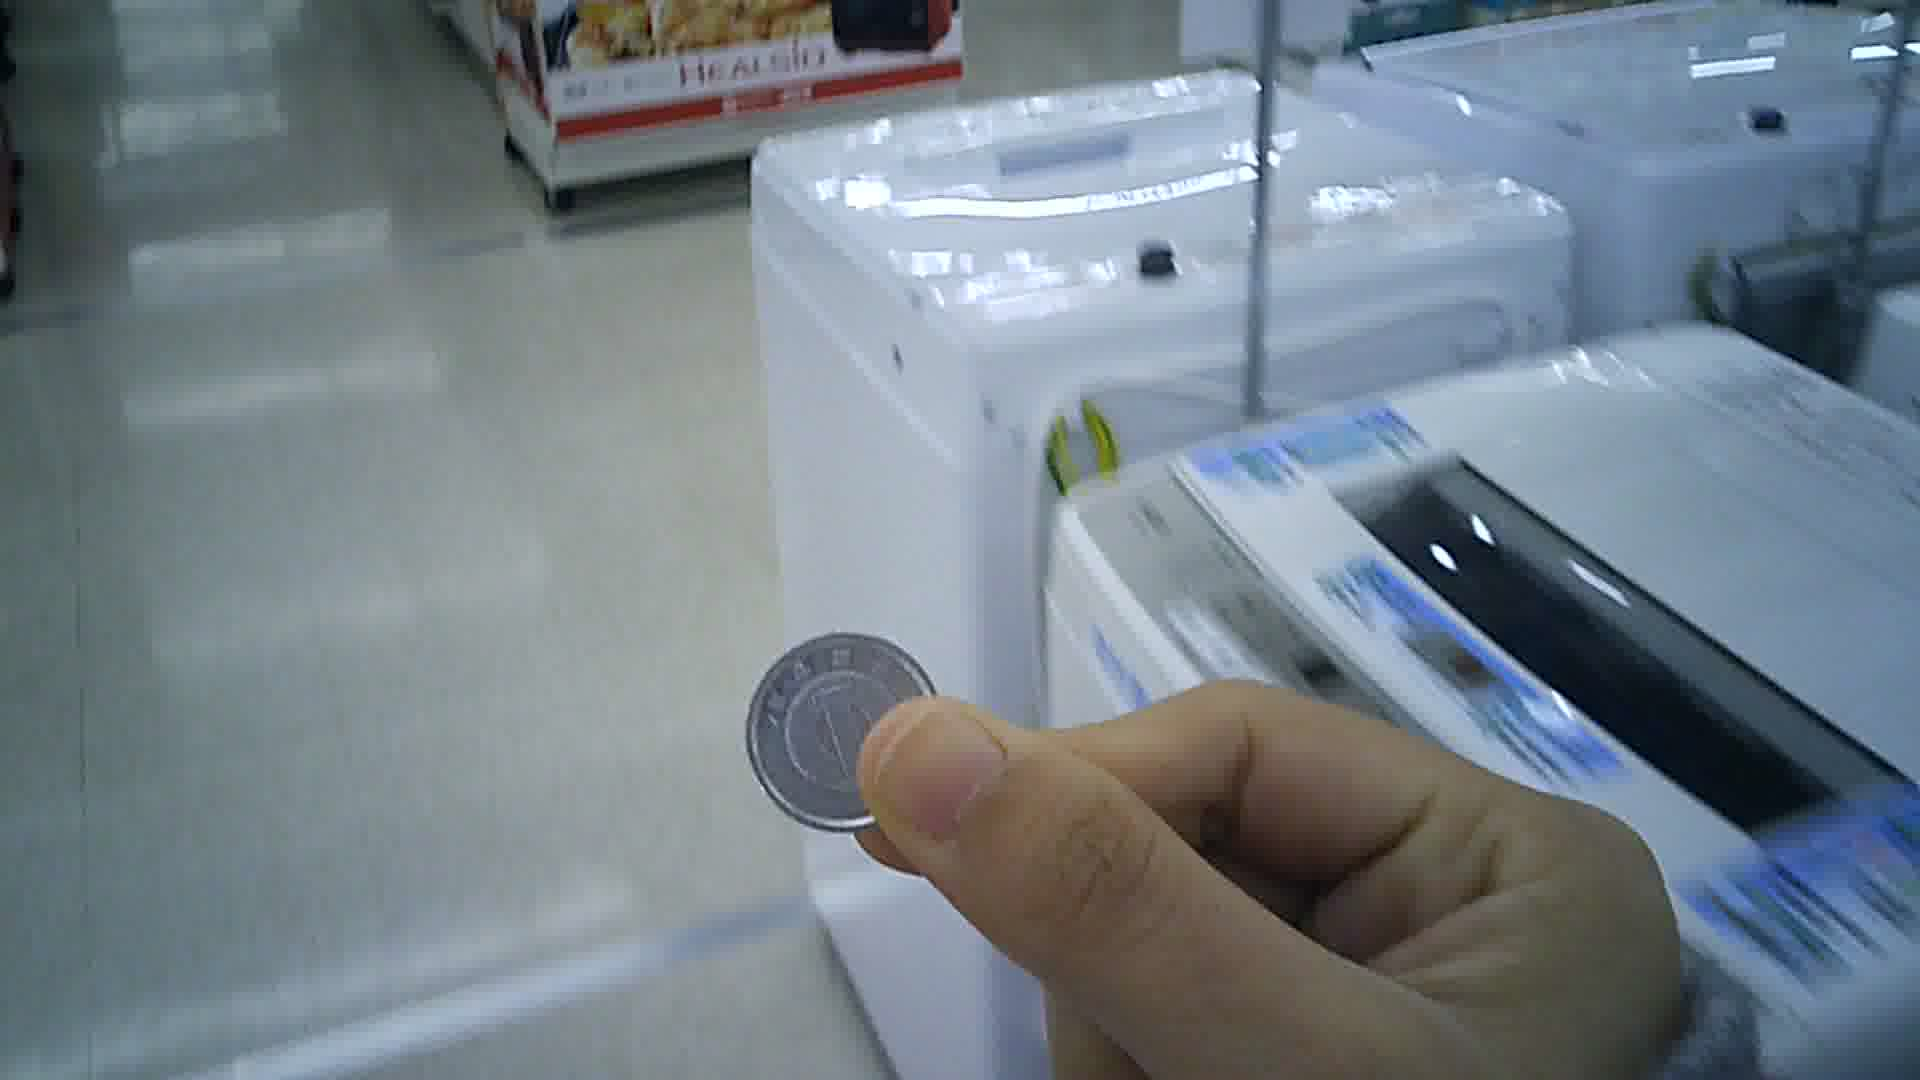1 Yen: (735, 611, 956, 856)
